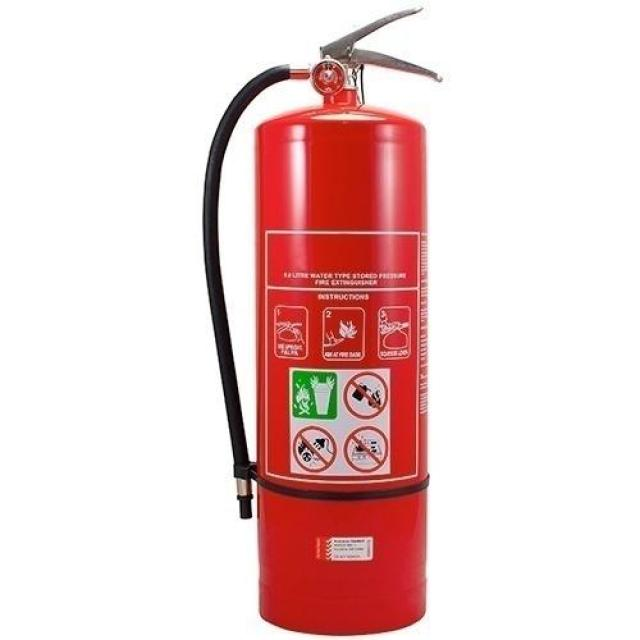fire_extinguisher: (194, 1, 451, 639)
